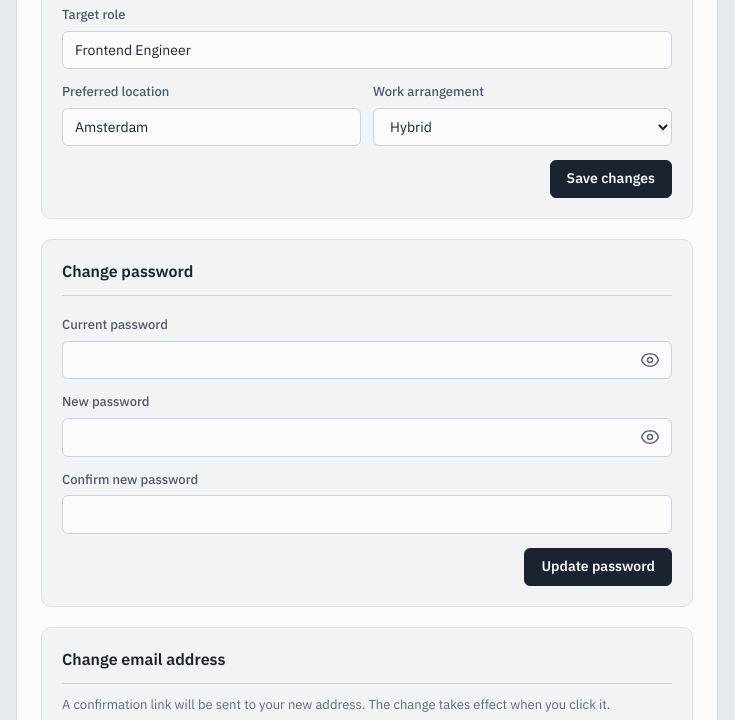
it: ProfileView – changing the password › clears all three fields after a successful change
(page scrolled)
Type "old-password" into the password field with id "cur-pw" at (367, 360), box [62,341,672,380]
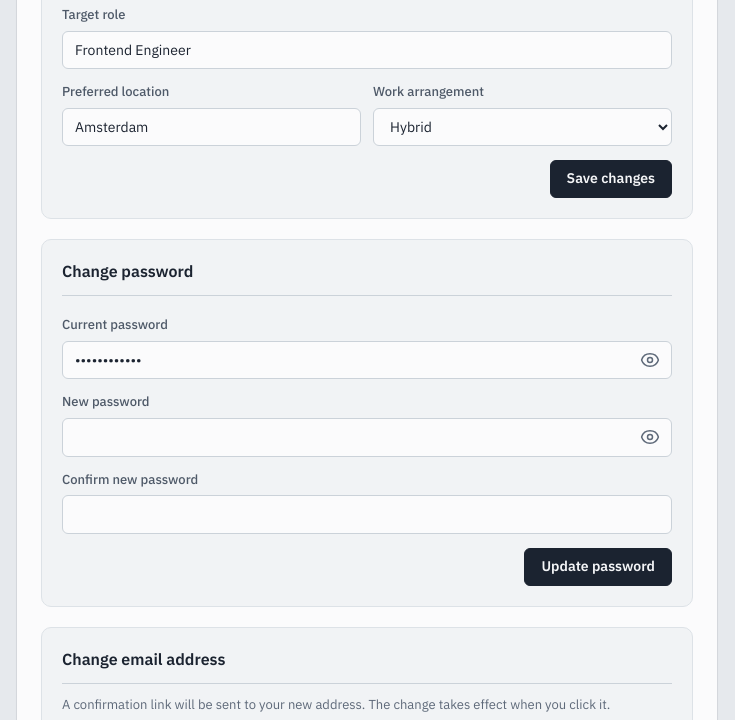
Type "new-password" into the password field with id "new-pw" at (367, 437), box [62,418,672,457]
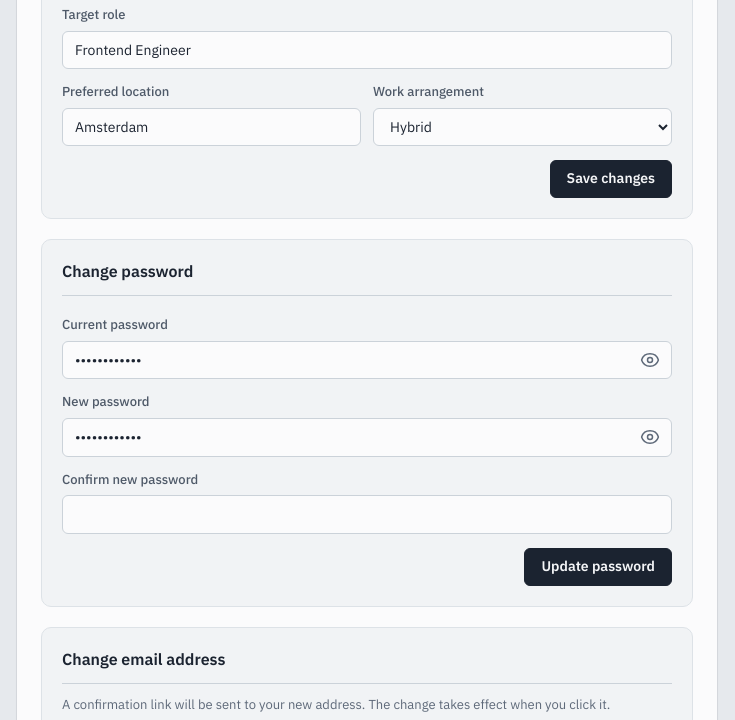
Type "new-password" into the password field with id "conf-pw" at (367, 515), box [62,496,672,534]
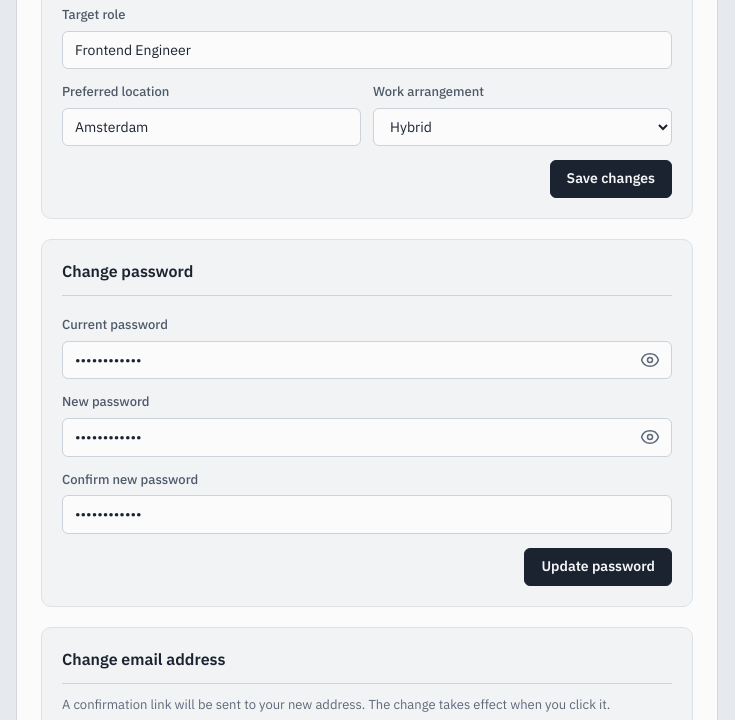
Submit the form that starts with "Current password", box [62,316,672,586]
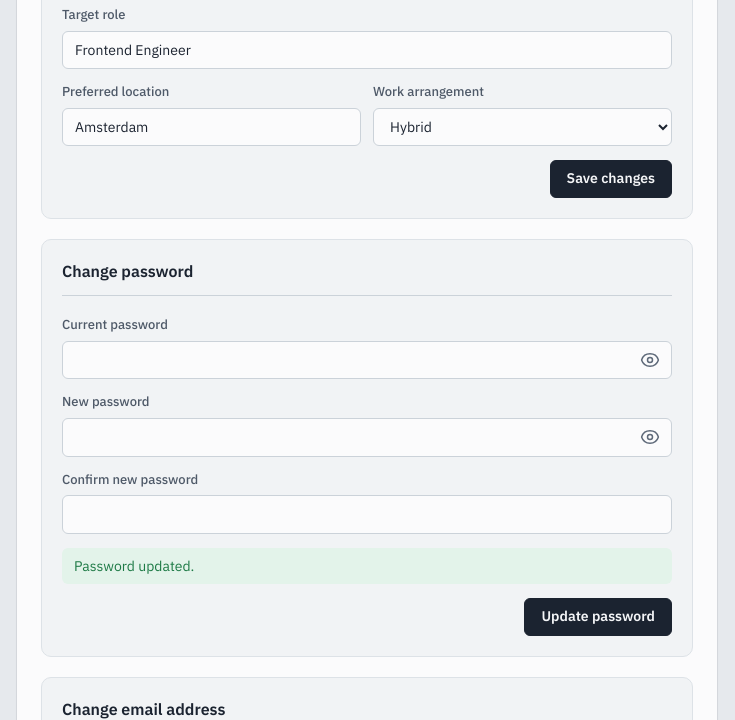
Check: the text "Password updated." is shown, box [62,548,672,584]
